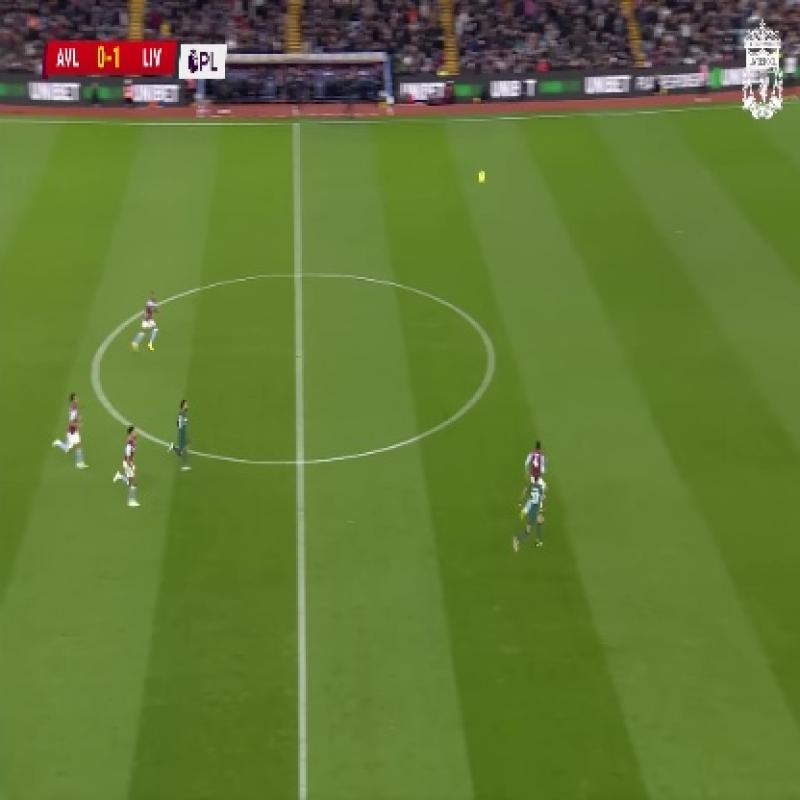13: (282, 106, 308, 138)
14: (280, 252, 312, 294)
15: (280, 436, 314, 485)
c: (461, 320, 523, 388), (68, 338, 124, 408)
